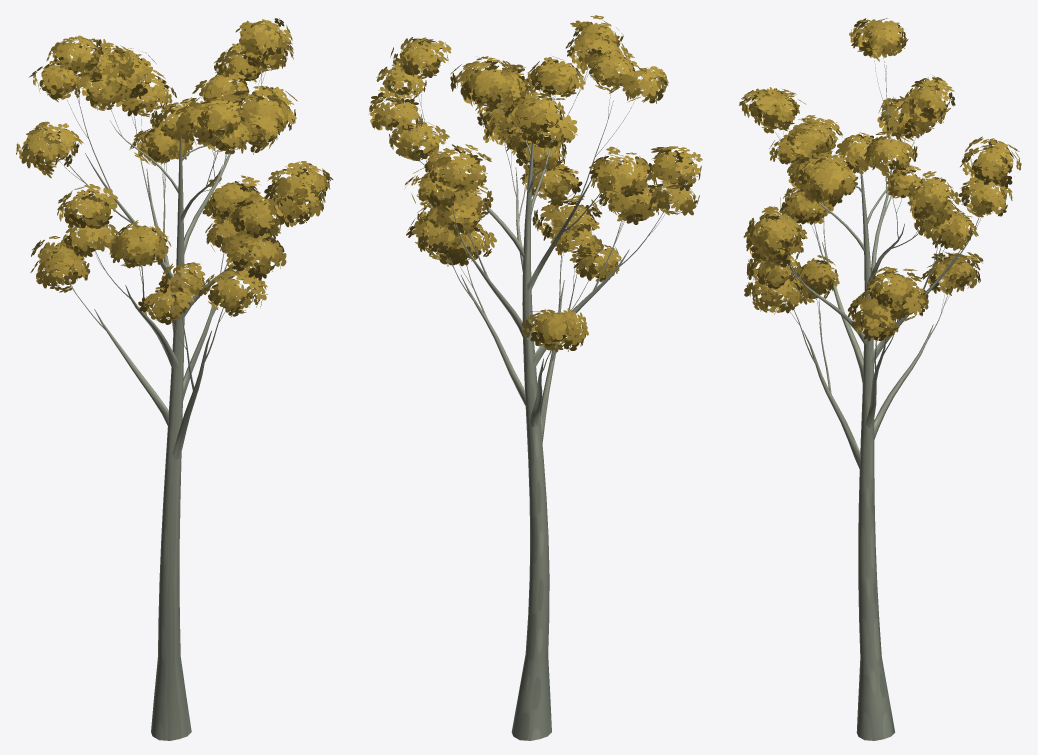
Rendered from tree.gltf.
3 renders of one model, left to right at view 1: azimuth 30°, elevation 25°; view 2: azimuth 150°, elevation 25°; view 3: azimuth 270°, elevation 25°, orthographic. The views are drawn at different scales.
Visible parts, largest first — view 1: Tree_LOD0; view 2: Tree_LOD0; view 3: Tree_LOD0.
Boxes of the visible parts, x1,y1,x2,y2 form: Tree_LOD0: (16, 18, 332, 740); Tree_LOD0: (368, 15, 702, 740); Tree_LOD0: (739, 18, 1021, 740).
Size of the model in its own units: 11.06 by 26.37 by 10.23.
Materials: 2 (2 with a texture image).
